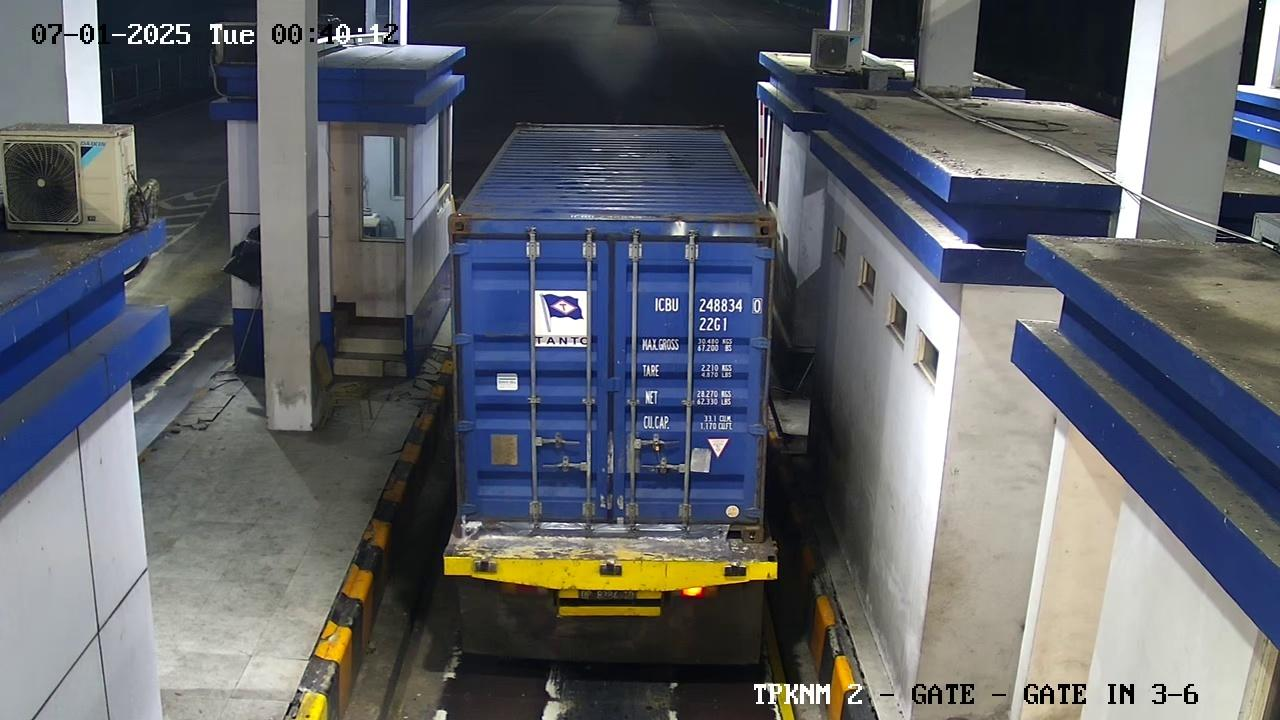Container_ID: (628, 288, 773, 339)
